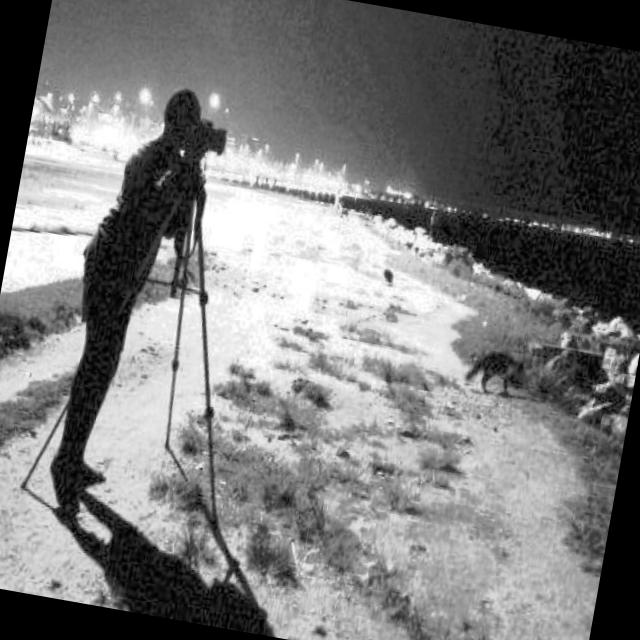Cat: (441, 340, 540, 418)
Person: (1, 72, 212, 563)
